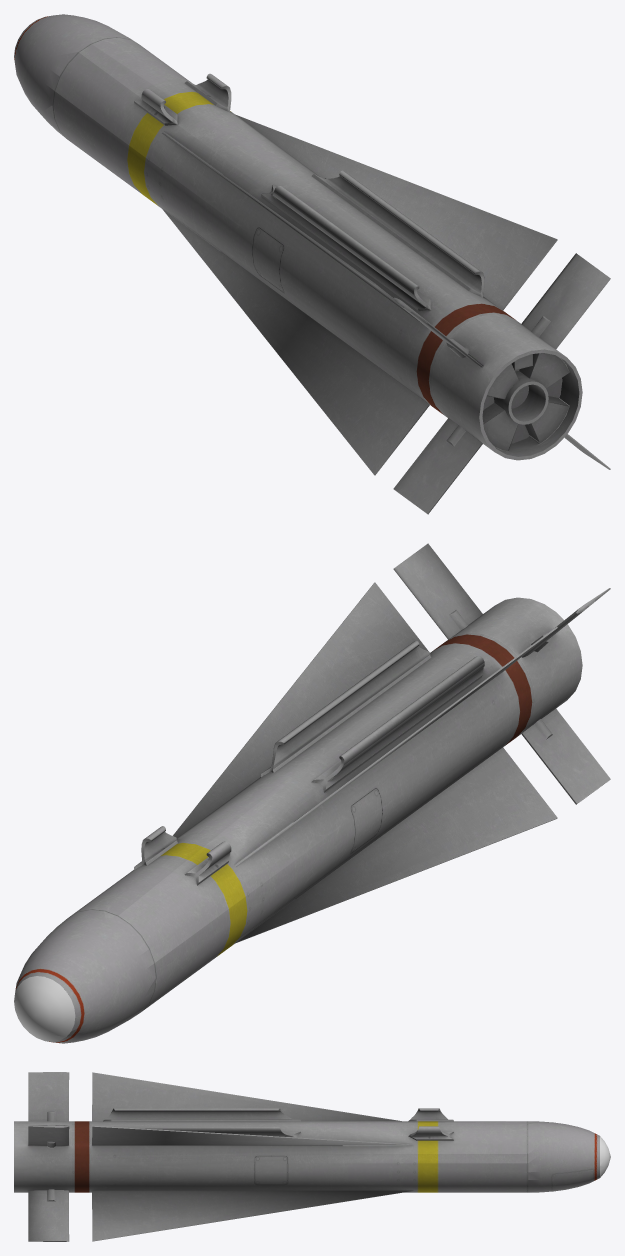
File: agm-65.glb
The picture shows the model from 3 angles, top to bottom: view 1: azimuth 30°, elevation 25°; view 2: azimuth 150°, elevation 25°; view 3: azimuth 270°, elevation 25°; orthographic projection. The views are drawn at different scales.
Parts seen in each view (by area): view 1: us_agm-65; view 2: us_agm-65, us_agm-65_Glass; view 3: us_agm-65, us_agm-65_Glass.
Boxes of the visible parts, bbox=[...] form: us_agm-65: bbox=[14, 14, 610, 514]; us_agm-65: bbox=[15, 543, 610, 1043]; us_agm-65_Glass: bbox=[14, 976, 75, 1041]; us_agm-65: bbox=[14, 1072, 599, 1241]; us_agm-65_Glass: bbox=[600, 1136, 610, 1177].
Bounding box in the file's own units: 0.5391 × 0.5391 × 2.49.
2 materials, 1 textured.
